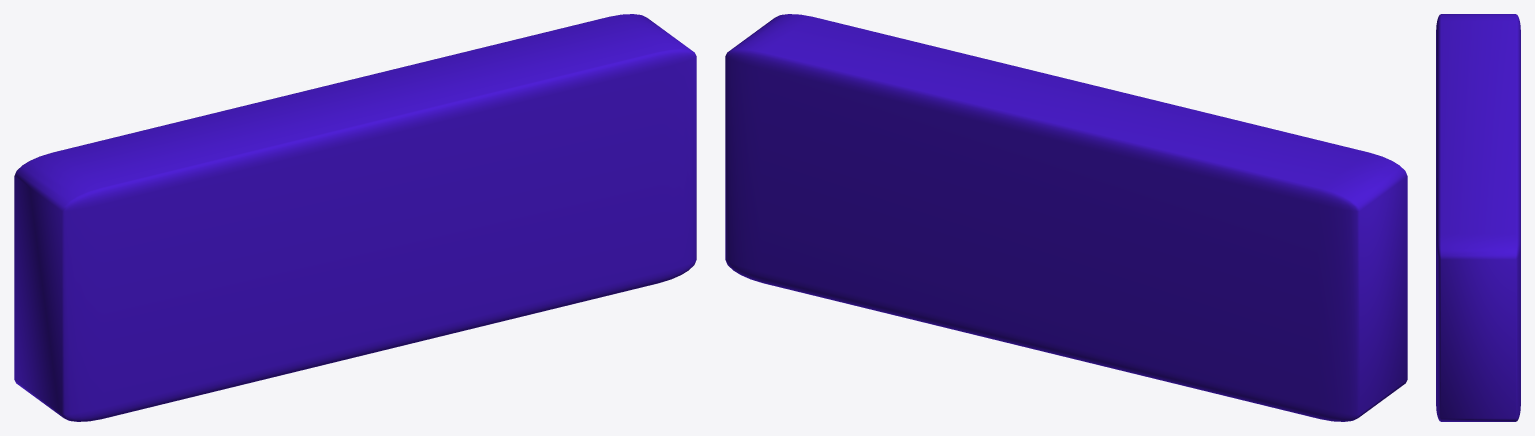
Rendered from button.glb.
3 renders of one model, left to right at view 1: azimuth 30°, elevation 25°; view 2: azimuth 150°, elevation 25°; view 3: azimuth 270°, elevation 25°, orthographic. The views are drawn at different scales.
Parts seen in each view (by area): view 1: Cube; view 2: Cube; view 3: Cube.
Boxes of the visible parts, left/top/right/bottom form: Cube: left=14, top=14, right=696, bottom=421; Cube: left=725, top=14, right=1407, bottom=421; Cube: left=1436, top=14, right=1520, bottom=421.
Size of the model in its own units: 261 by 90.91 by 38.73.
